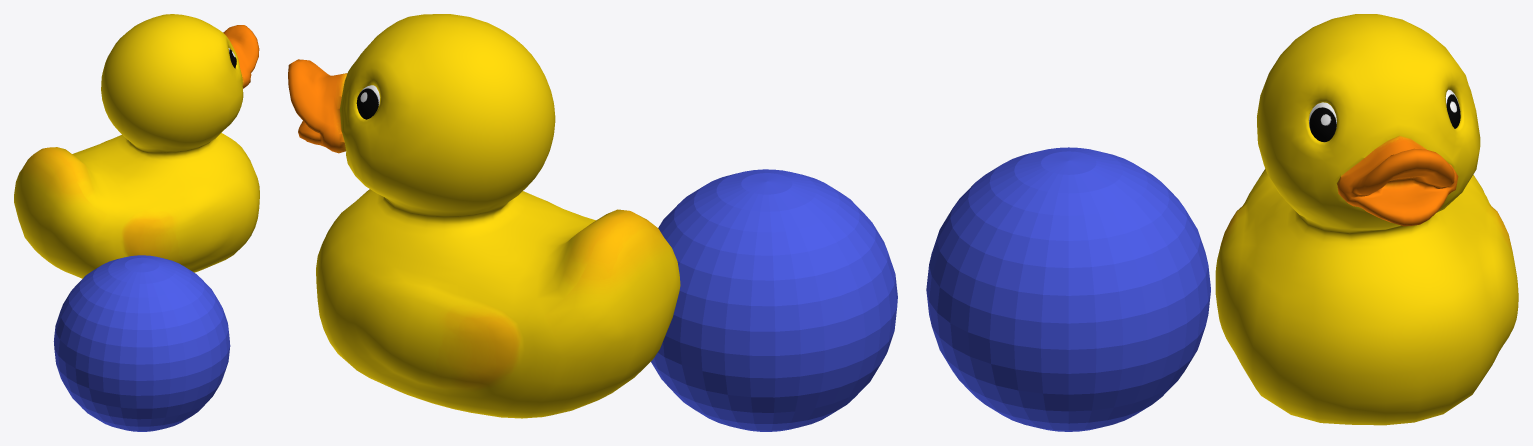
The model's file is blue-ball.glb.
3 renders of one model, left to right at view 1: azimuth 30°, elevation 25°; view 2: azimuth 150°, elevation 25°; view 3: azimuth 270°, elevation 25°, orthographic. The views are drawn at different scales.
Visible parts, largest first — view 1: LOD3spShape.001, Sphere; view 2: LOD3spShape.001, Sphere; view 3: LOD3spShape.001, Sphere.
Part boxes in pixels (x1=…): LOD3spShape.001: x1=14, y1=14, x2=259, y2=278; Sphere: x1=53, y1=255, x2=230, y2=431; LOD3spShape.001: x1=288, y1=14, x2=680, y2=418; Sphere: x1=651, y1=169, x2=897, y2=431; LOD3spShape.001: x1=1215, y1=14, x2=1518, y2=425; Sphere: x1=926, y1=147, x2=1210, y2=431.
Size of the model in its own units: 7.99 by 8 by 8.76.
2 materials, 1 textured.
